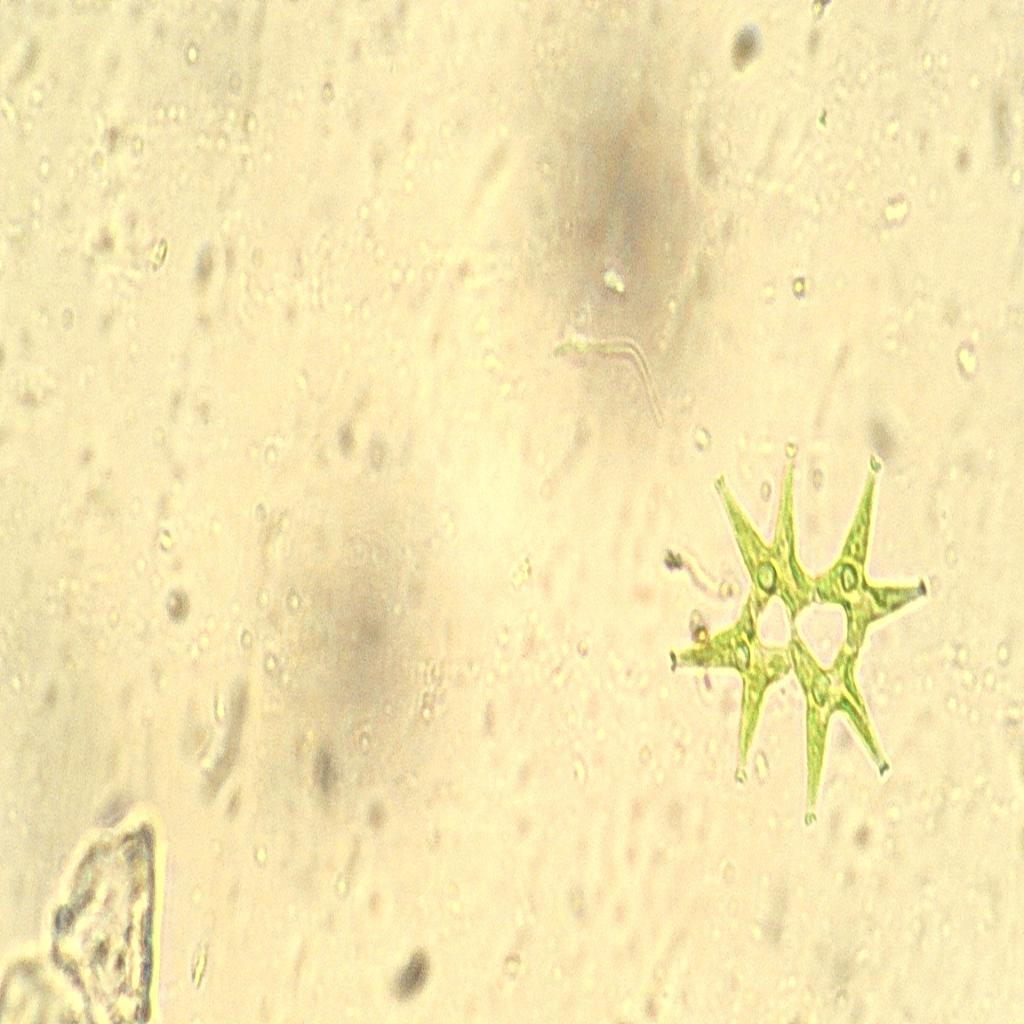Pediastrum_75FO: (663, 410, 944, 836)
